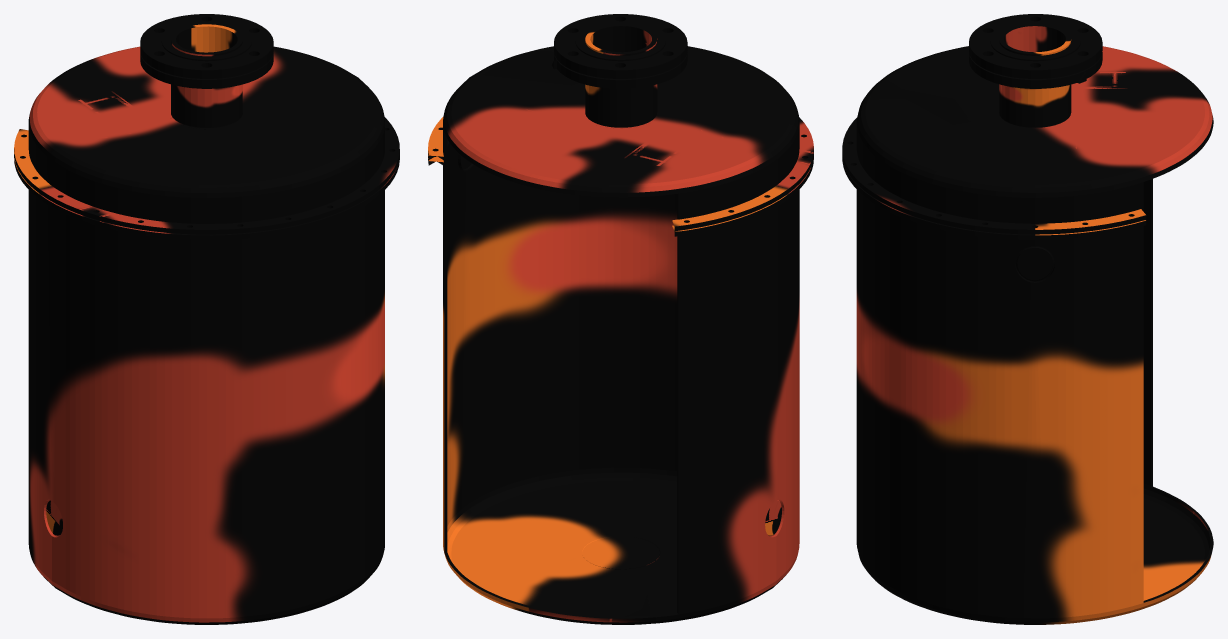
The model's file is Capsul.fbx.
3 renders of one model, left to right at view 1: azimuth 30°, elevation 25°; view 2: azimuth 150°, elevation 25°; view 3: azimuth 270°, elevation 25°, orthographic.
Visible parts, largest first — view 1: Пятый блок\Адсорбер 2\Крышка адс.005; view 2: Пятый блок\Адсорбер 2\Крышка адс.005; view 3: Пятый блок\Адсорбер 2\Крышка адс.005.
Boxes of the visible parts, <box> form: Пятый блок\Адсорбер 2\Крышка адс.005: <box>14,14,399,624</box>; Пятый блок\Адсорбер 2\Крышка адс.005: <box>428,14,813,624</box>; Пятый блок\Адсорбер 2\Крышка адс.005: <box>842,14,1213,624</box>.
Bounding box in the file's own units: 39821 × 58547 × 38275.
